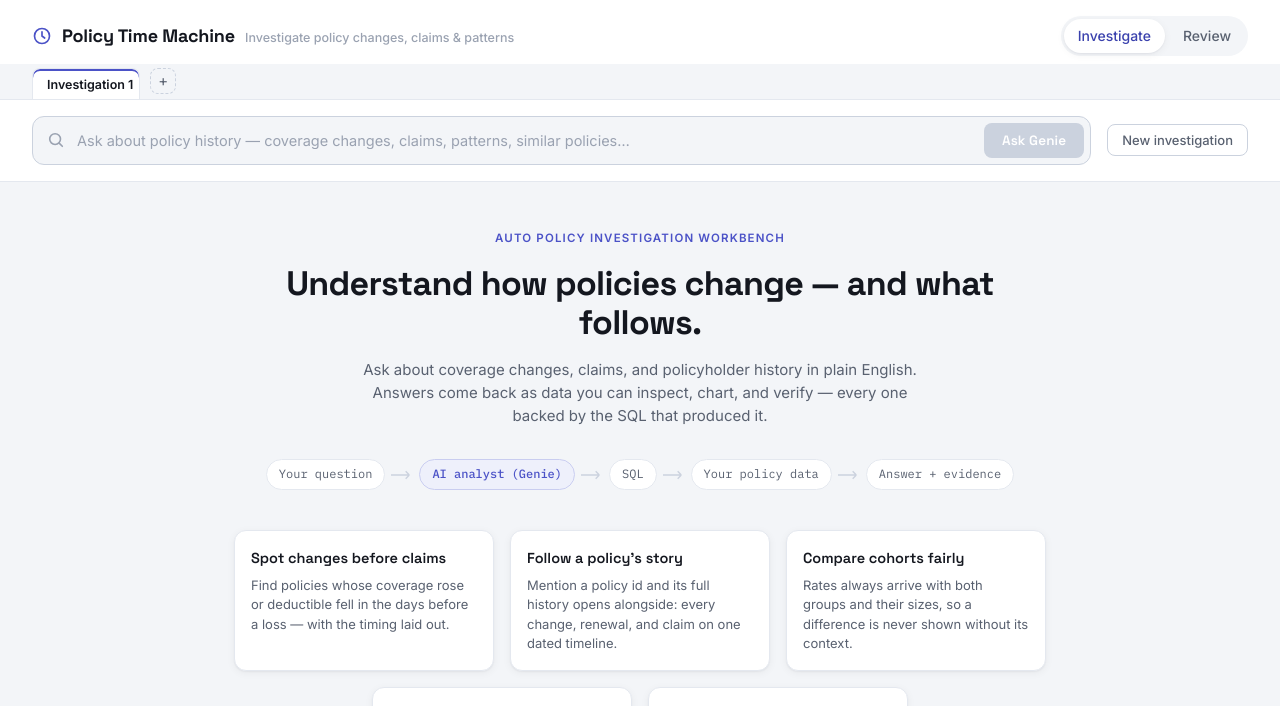
Test: App smoke test (mock mode) › an unknown policy id gets an explicit not-found state, never a blank timeline
Replace the text in the field labelled "Ask about policy history" with "What changed on P-18499?" at (524, 140), box x1=73 y1=124 x2=976 y2=157
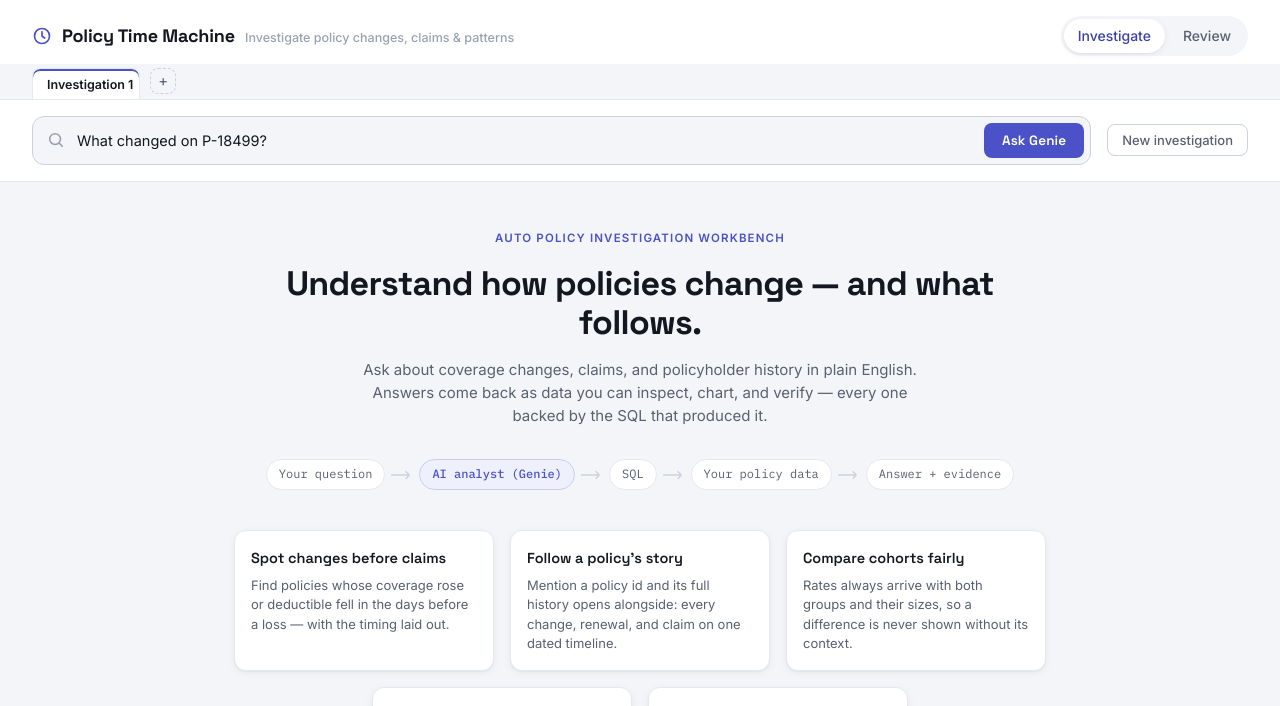
Submit the form named "Ask about policy history", box x1=32 y1=116 x2=1091 y2=165
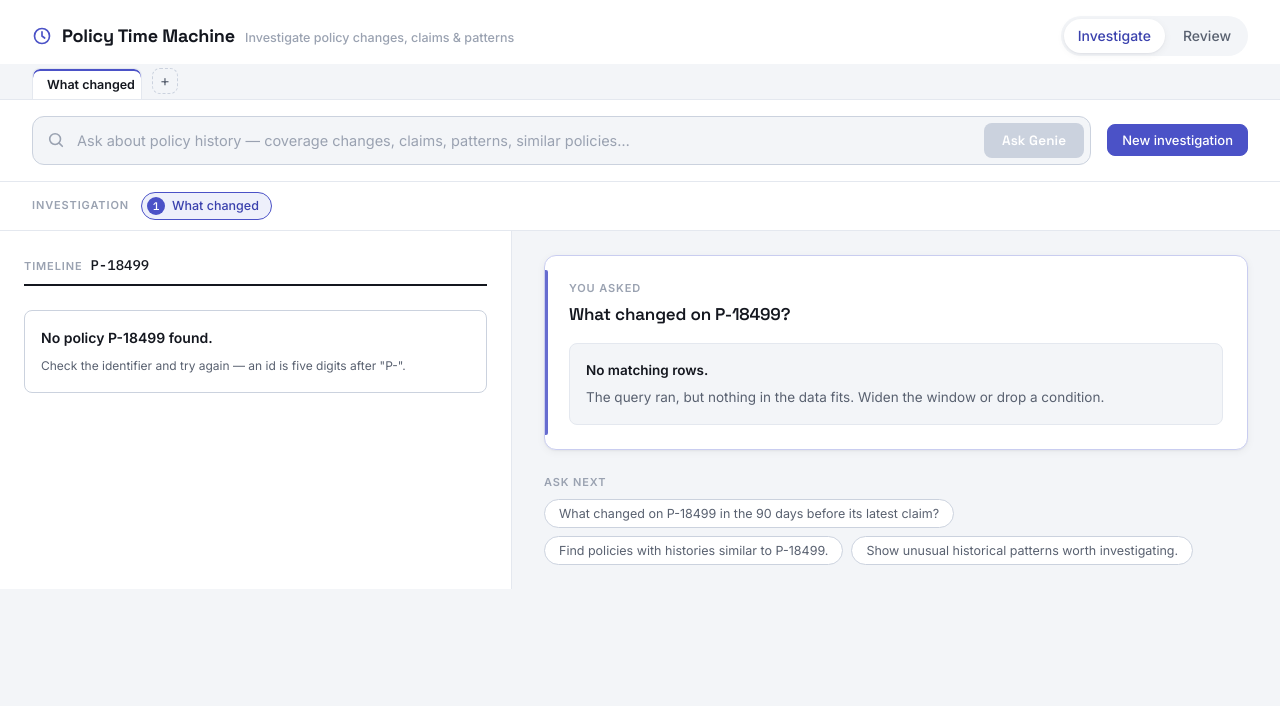
Expected: the text "No policy P-18499 found" is shown, x1=24 y1=310 x2=487 y2=393
